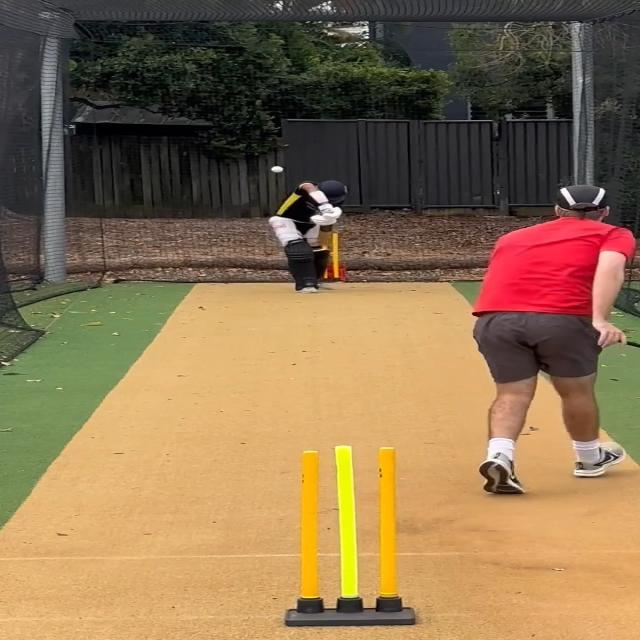ball: (270, 165, 284, 174)
stump: (284, 444, 420, 626)
